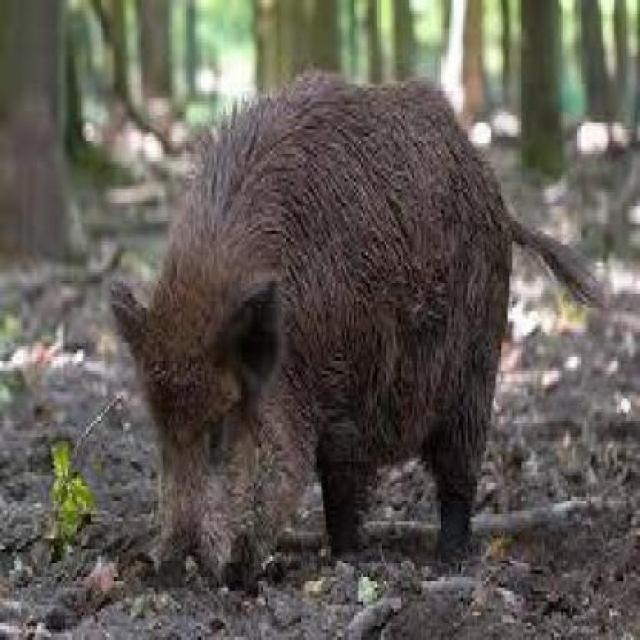wildboar: (105, 65, 601, 604)
